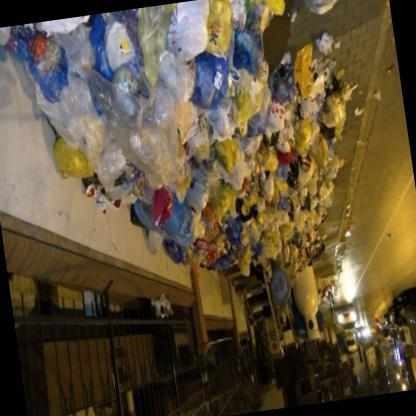Garbage: (38, 0, 218, 174), (197, 91, 322, 278), (240, 41, 352, 212), (156, 0, 301, 113), (80, 93, 174, 211), (138, 140, 228, 256), (182, 184, 256, 280), (0, 21, 54, 59), (302, 0, 342, 15)
